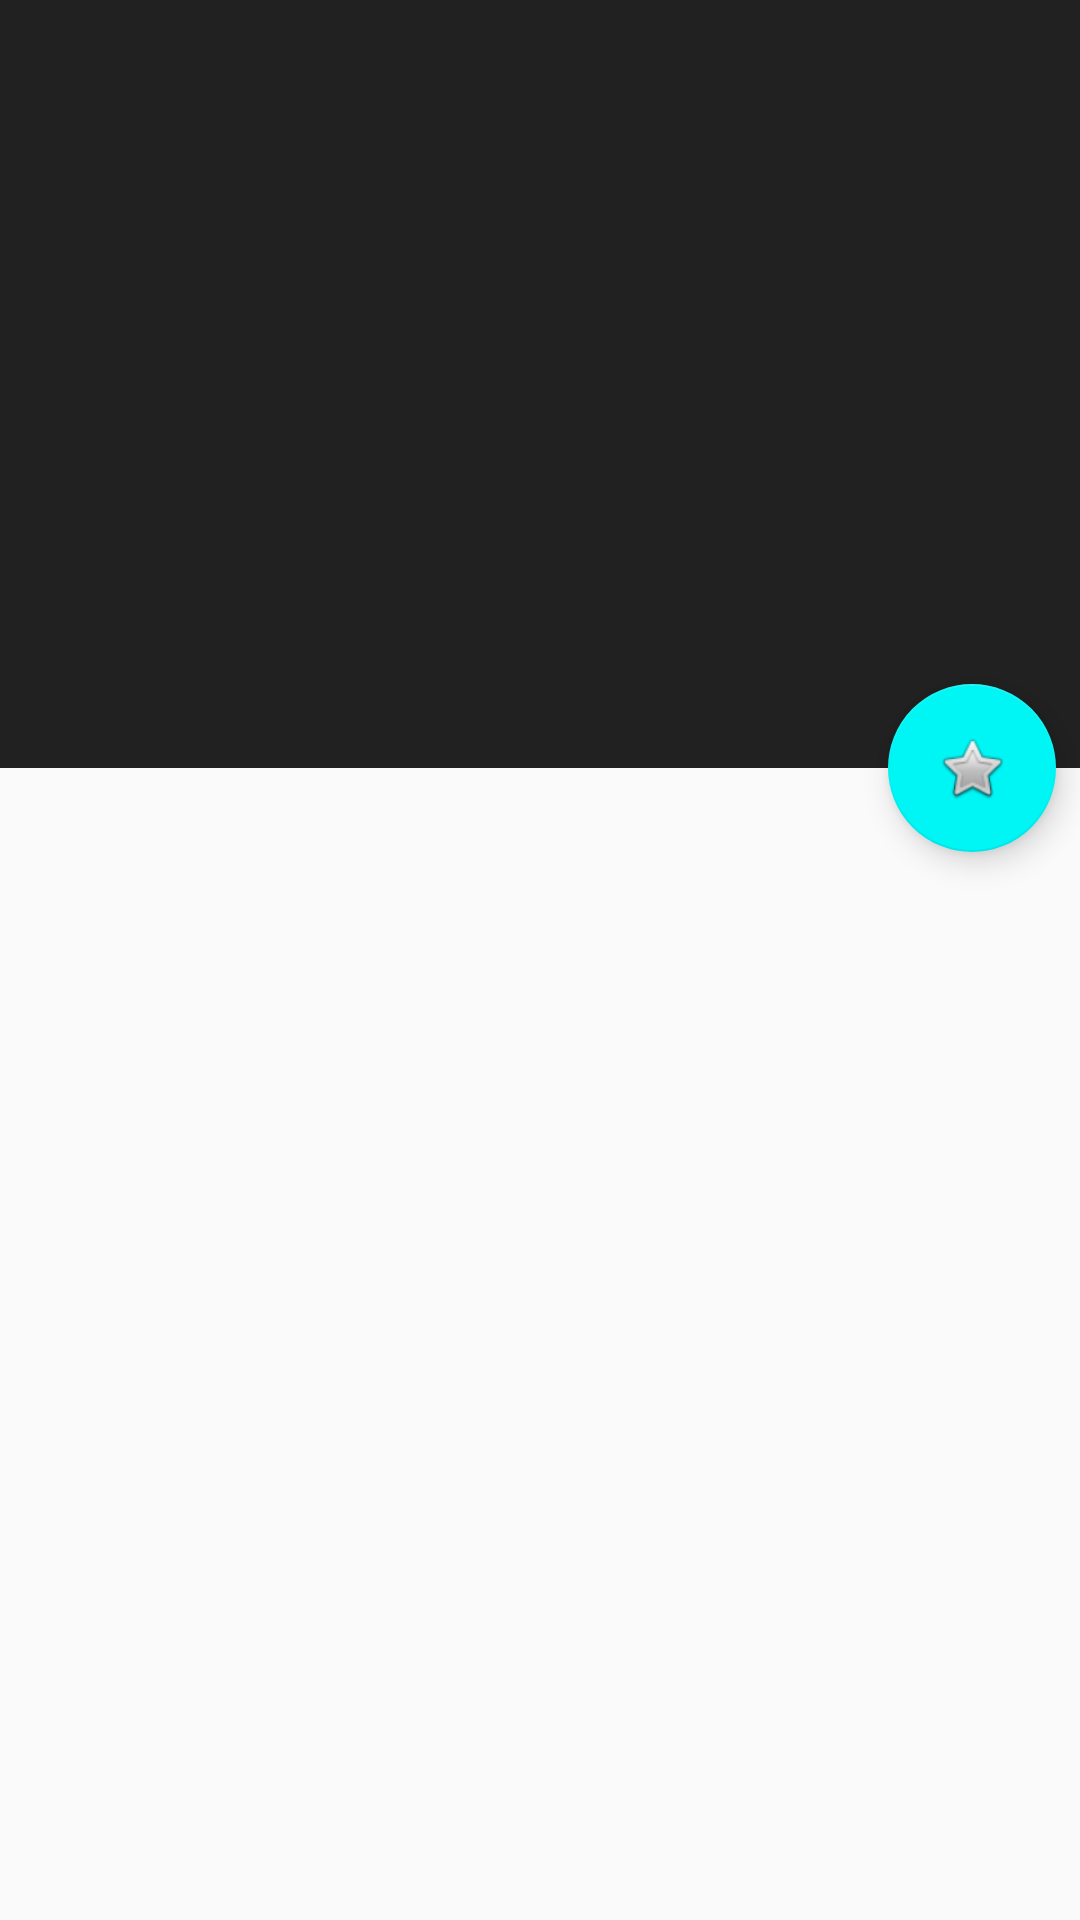

Icon click points for this 1080 × 1920 phone screenshot, format (x,y):
star off: (972,768)
